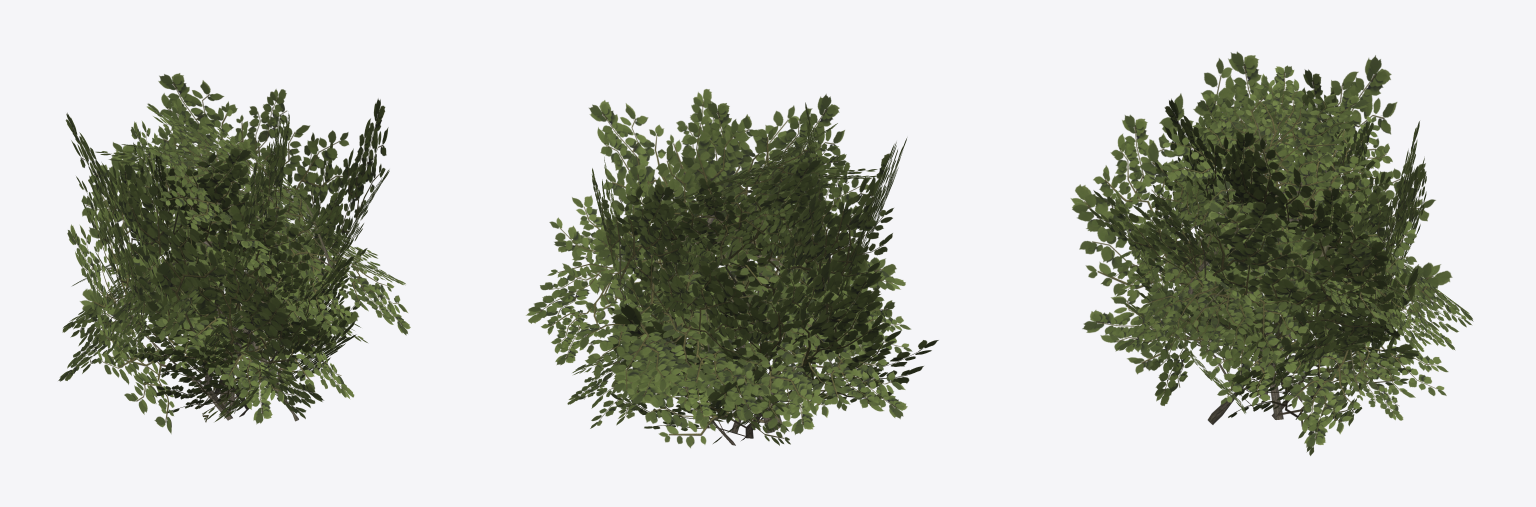
File: Bush2.gltf
3 views of the same model, side by side, from view 1: azimuth 30°, elevation 25°; view 2: azimuth 150°, elevation 25°; view 3: azimuth 270°, elevation 25° (orthographic). The views are drawn at different scales.
Visible parts, largest first — view 1: Bush-02_14; view 2: Bush-02_14; view 3: Bush-02_14.
Boxes of the visible parts, bbox=[...] form: Bush-02_14: bbox=[58, 73, 410, 433]; Bush-02_14: bbox=[526, 89, 938, 448]; Bush-02_14: bbox=[1070, 51, 1473, 455].
Size of the model in its own units: 35.94 by 26.46 by 38.34.
5 materials, 5 textured.
